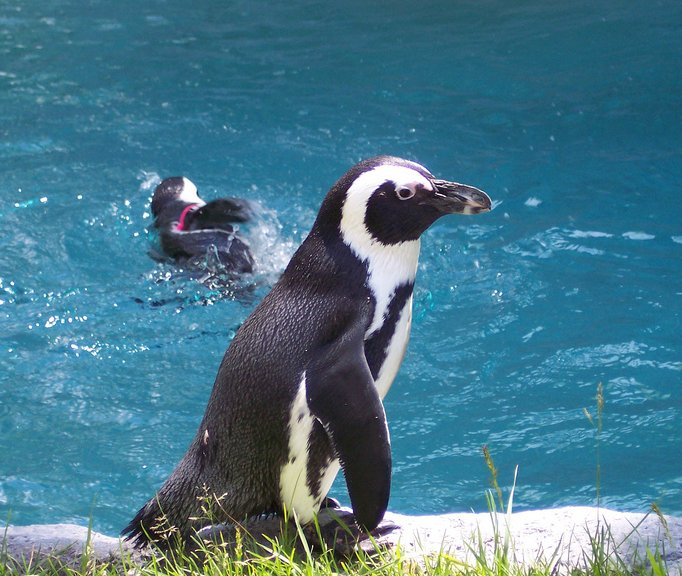penguin: (166, 153, 493, 544)
